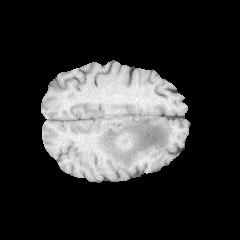glioma: (92, 117, 173, 170)
